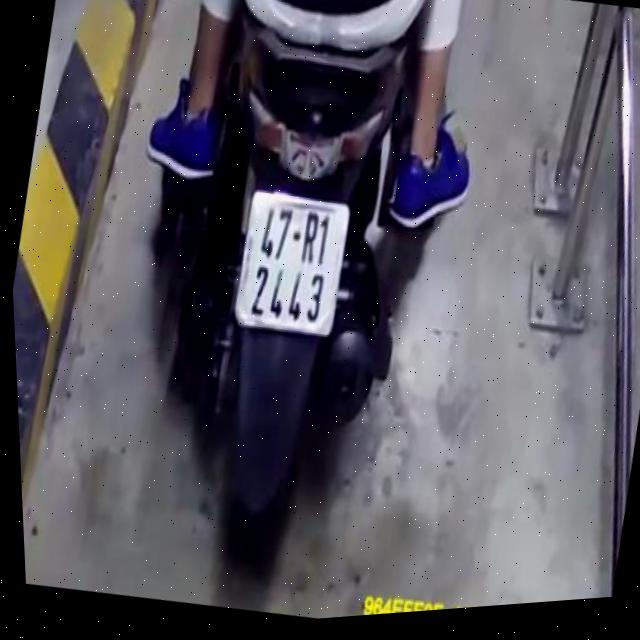motorcycle: (86, 0, 468, 592)
plate: (213, 172, 369, 360)
